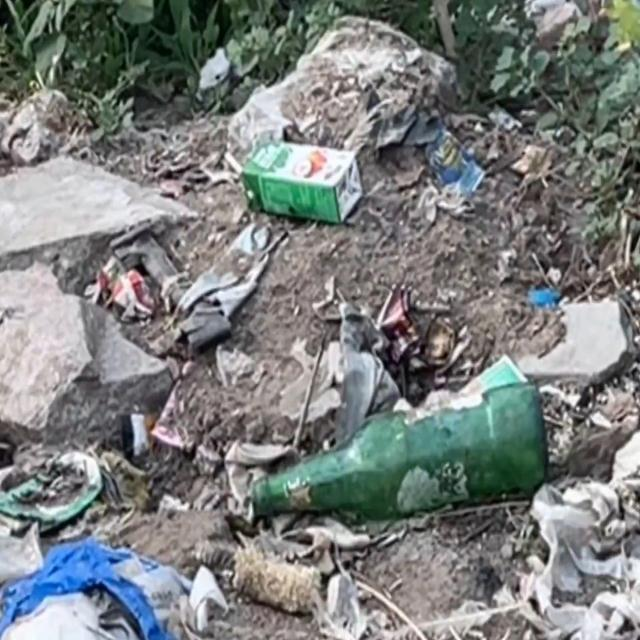dry: (241, 132, 390, 224), (412, 114, 495, 197), (94, 259, 169, 329)
